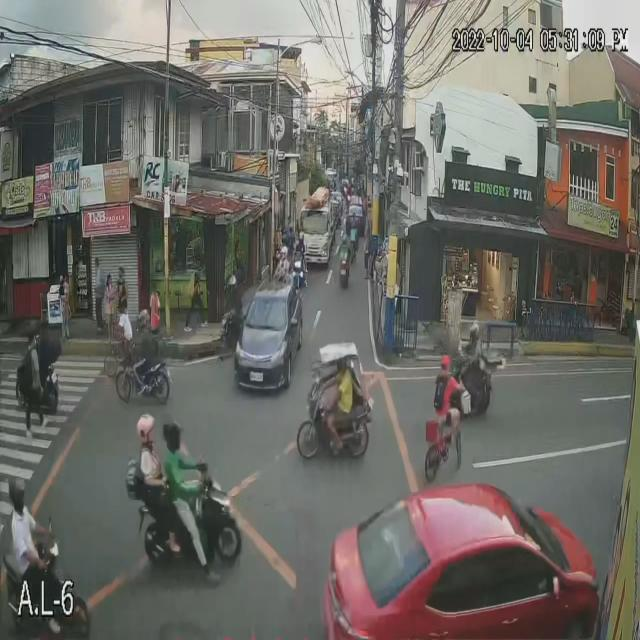full: (162, 420, 184, 454), (8, 476, 26, 514), (136, 308, 149, 334), (468, 322, 480, 343)
half: (136, 412, 156, 447)
